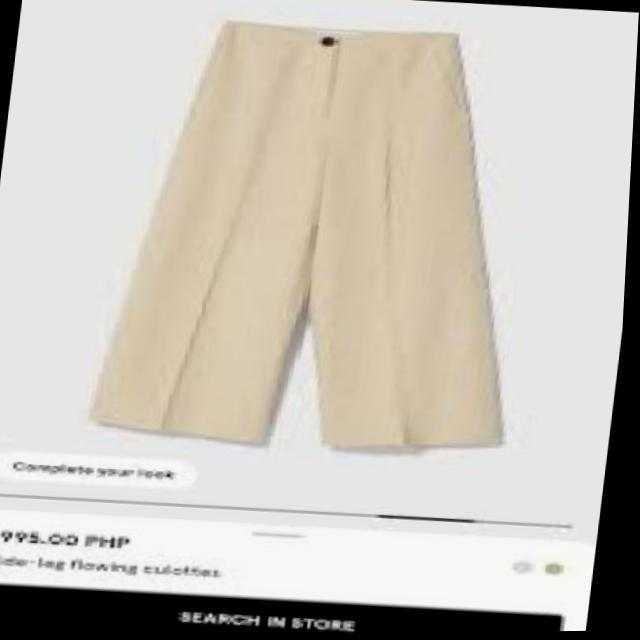pants: (88, 22, 506, 450)
